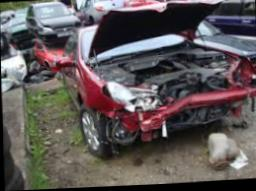Bonnet: (91, 48, 239, 89)
Bumper: (109, 86, 256, 150)
